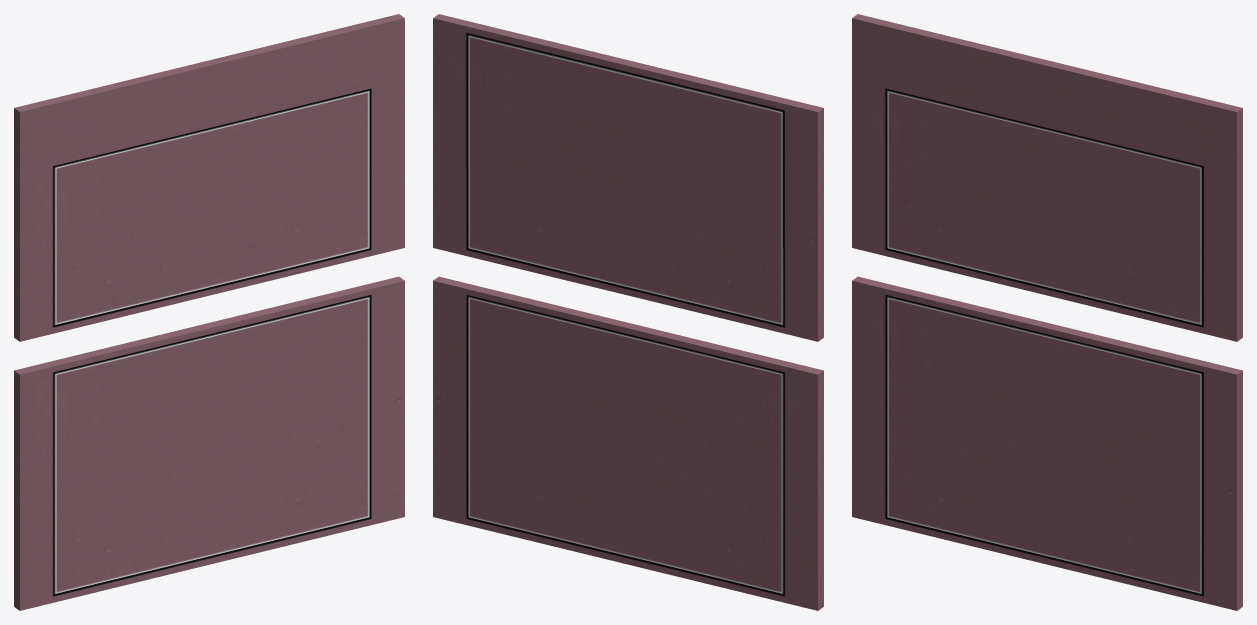
The model's file is SM_GJJ_HG_Wall02G.fbx.
The picture shows the model from 3 angles, left to right: view 1: azimuth 30°, elevation 25°; view 2: azimuth 150°, elevation 25°; view 3: azimuth 330°, elevation 25°; orthographic projection.
Visible parts, largest first — view 1: SM_GJJ_HG_Wall02G; view 2: SM_GJJ_HG_Wall02G; view 3: SM_GJJ_HG_Wall02G.
Part boxes in pixels (x1,y1,x2,y2): SM_GJJ_HG_Wall02G: [14, 14, 404, 610]; SM_GJJ_HG_Wall02G: [433, 14, 823, 610]; SM_GJJ_HG_Wall02G: [852, 14, 1242, 610].
Bounding box in the file's own units: 307 × 8 × 380.
1 material, 1 textured.
